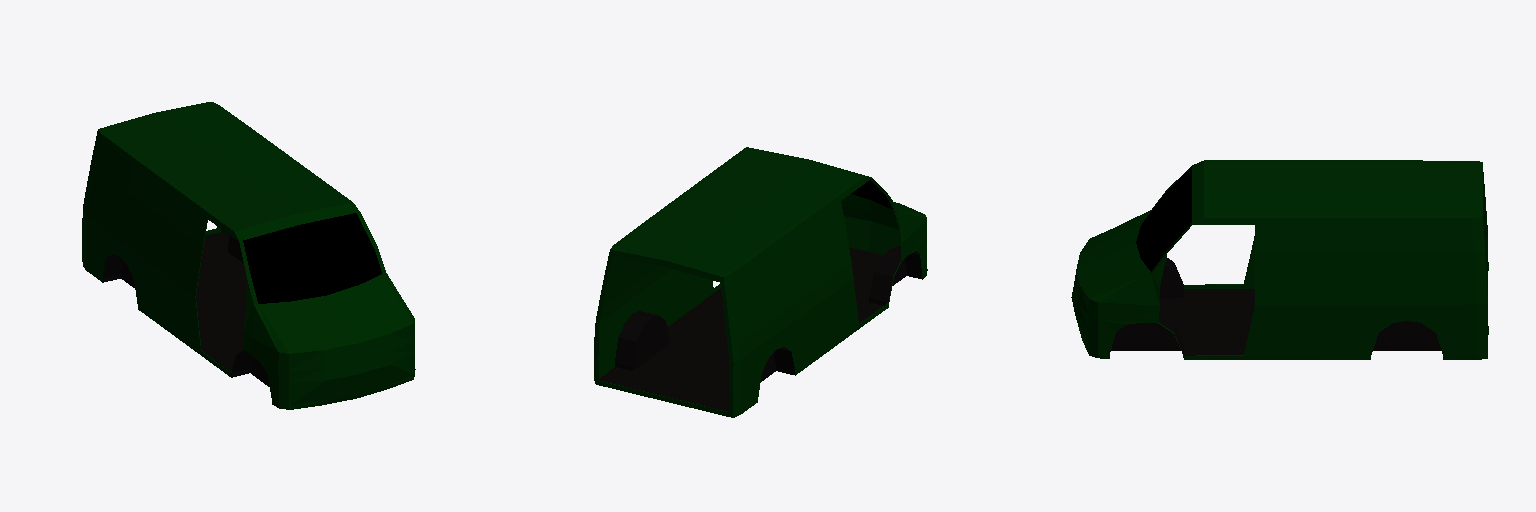
File: van_body.obj
The picture shows the model from 3 angles: view 1: azimuth 30°, elevation 25°; view 2: azimuth 150°, elevation 25°; view 3: azimuth 270°, elevation 25°; orthographic projection.
Visible parts, largest first — view 1: Body; view 2: Body; view 3: Body.
Boxes of the visible parts, x1=… form: Body: x1=82, y1=102, x2=415, y2=409; Body: x1=594, y1=147, x2=927, y2=417; Body: x1=1071, y1=160, x2=1488, y2=359.
Size of the model in its own units: 2.02 by 1.83 by 4.99.